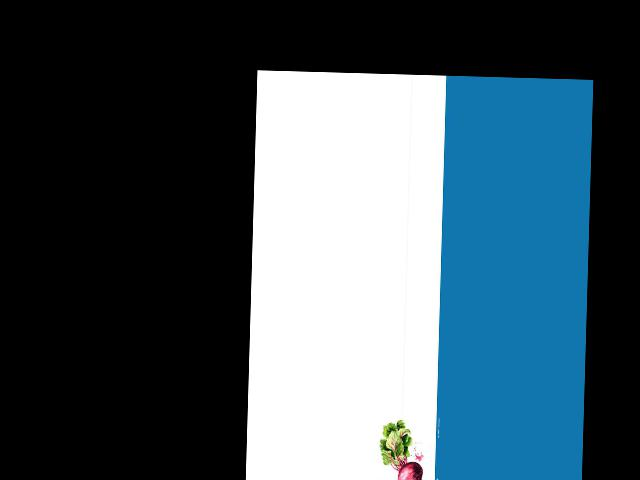beet: (378, 418, 428, 480)
